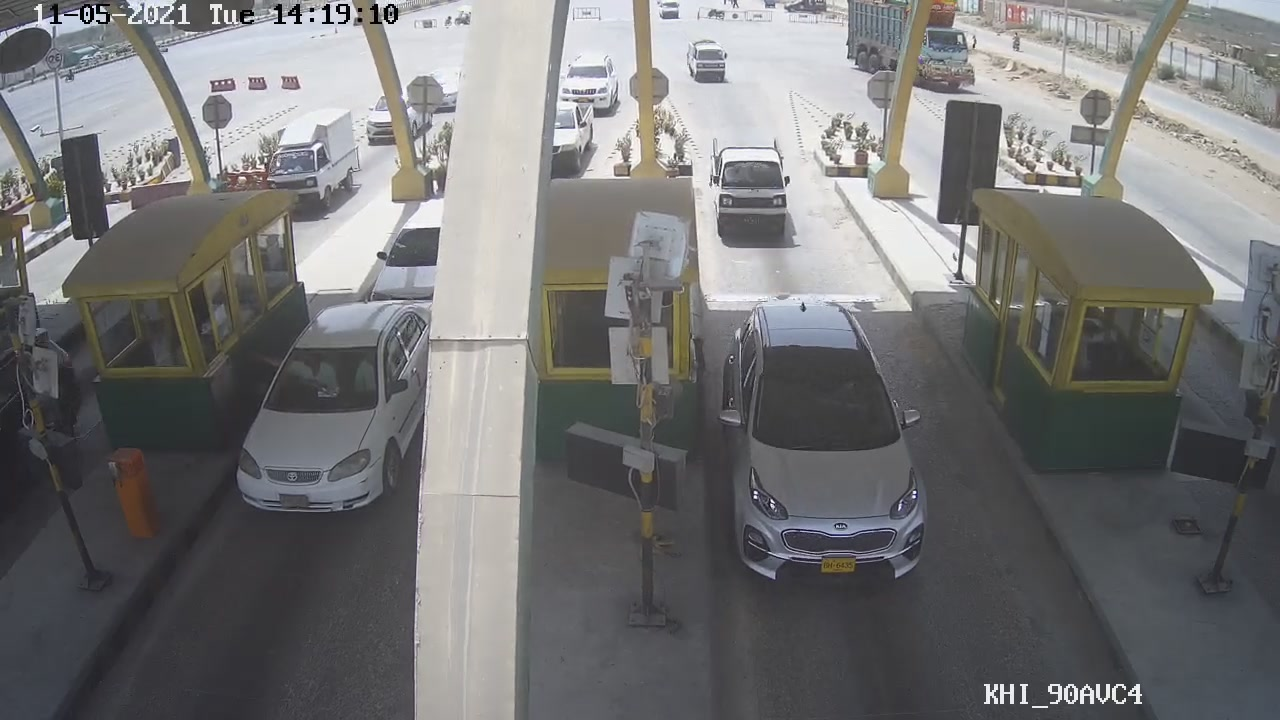F1: (713, 292, 919, 592)
